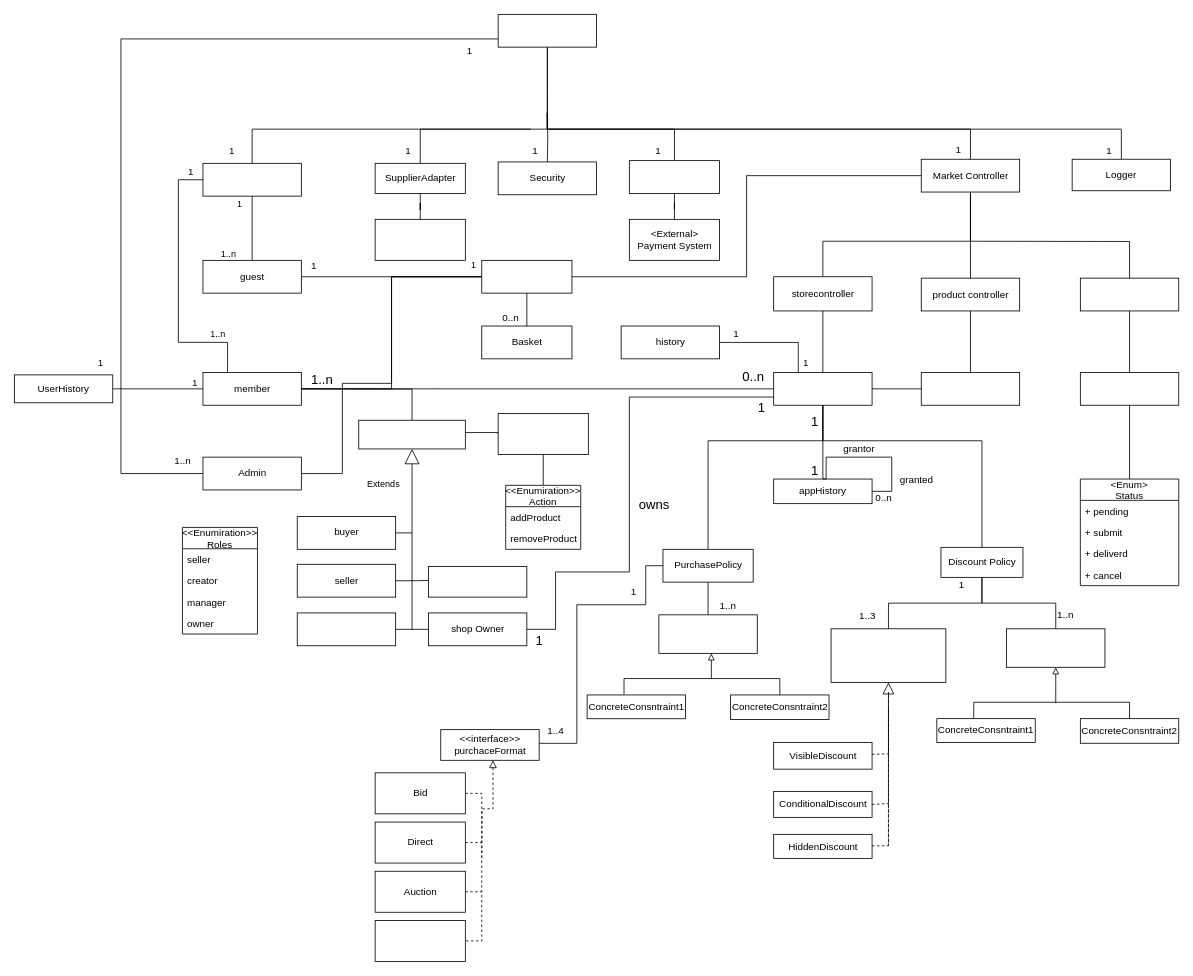
The diagram is 1193 pixels wide and 976 high, and some of its shapes have lost their labels. Each missing label, with the box of its shape:
<<Abstract Class>> DiscountsConstraints: (1006, 628, 1105, 667)
<<Abstract Class>> ProductConstraints: (658, 614, 757, 653)
<<Interface>> DiscountFormat + applyDiscount(): (830, 628, 946, 682)
<External> Supplier System: (374, 219, 465, 260)
Market: (497, 14, 597, 47)
order: (1080, 372, 1179, 405)
Order controller: (1080, 277, 1179, 311)
PaymentAdapter: (629, 160, 720, 193)
Permission: (497, 413, 588, 454)
product: (920, 372, 1020, 405)
Random: (374, 920, 465, 961)
shop creator: (428, 566, 527, 597)
shop manager: (296, 612, 396, 646)
Shopping cart: (481, 260, 572, 293)
store: (773, 372, 872, 405)
User controller: (202, 163, 301, 196)
userState: (358, 419, 465, 449)
